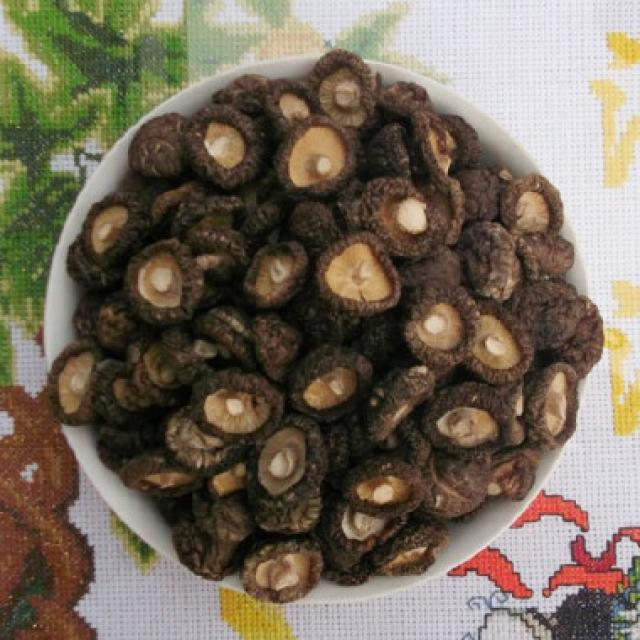Lentinus edodes: (312, 226, 401, 311), (189, 100, 263, 188), (368, 176, 441, 255), (283, 120, 356, 198), (306, 50, 377, 130), (410, 281, 477, 363), (467, 300, 532, 382), (430, 396, 516, 457), (200, 375, 283, 438), (243, 538, 322, 604), (256, 419, 318, 502), (134, 240, 198, 316), (44, 337, 102, 420), (499, 172, 563, 244), (528, 363, 582, 448), (243, 238, 306, 304), (347, 460, 423, 514), (82, 196, 138, 261)
